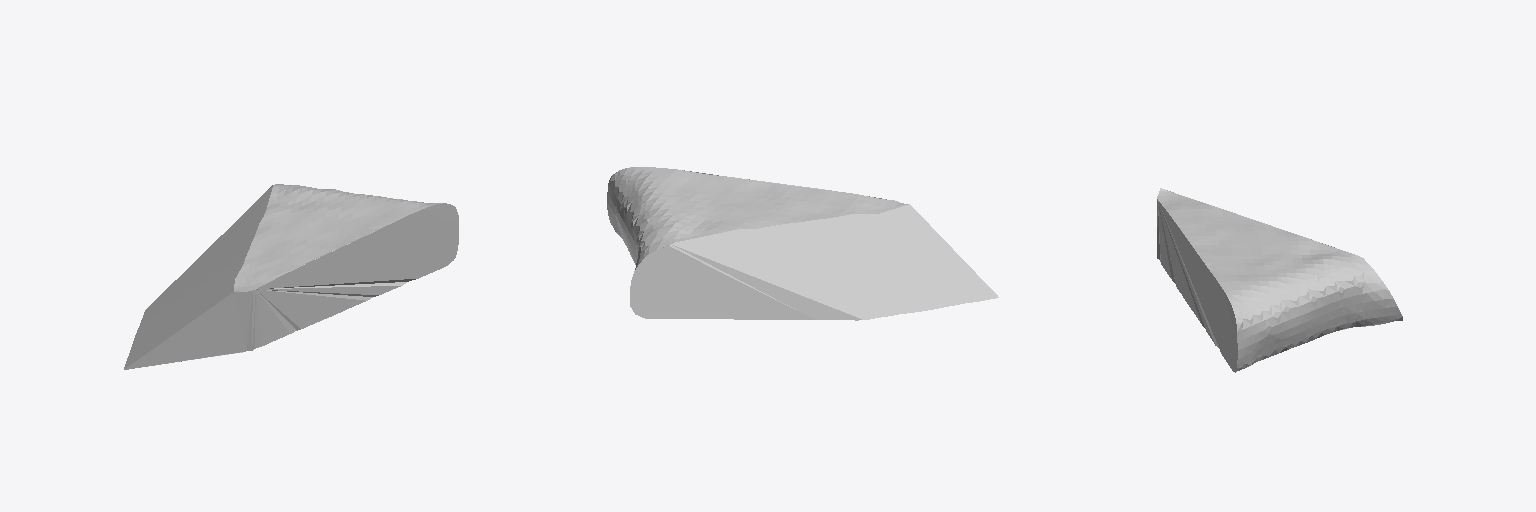
File: low_cell_083.obj
3 renders of one model, left to right at view 1: azimuth 30°, elevation 25°; view 2: azimuth 150°, elevation 25°; view 3: azimuth 270°, elevation 25°, orthographic.
Visible parts, largest first — view 1: low_cell.083_low_cell.082; view 2: low_cell.083_low_cell.082; view 3: low_cell.083_low_cell.082.
Boxes of the visible parts, x1,y1,x2,y2 form: low_cell.083_low_cell.082: [124, 184, 458, 369]; low_cell.083_low_cell.082: [607, 167, 998, 320]; low_cell.083_low_cell.082: [1157, 188, 1402, 372].
Size of the model in its own units: 0.8529 by 0.1526 by 0.4998.